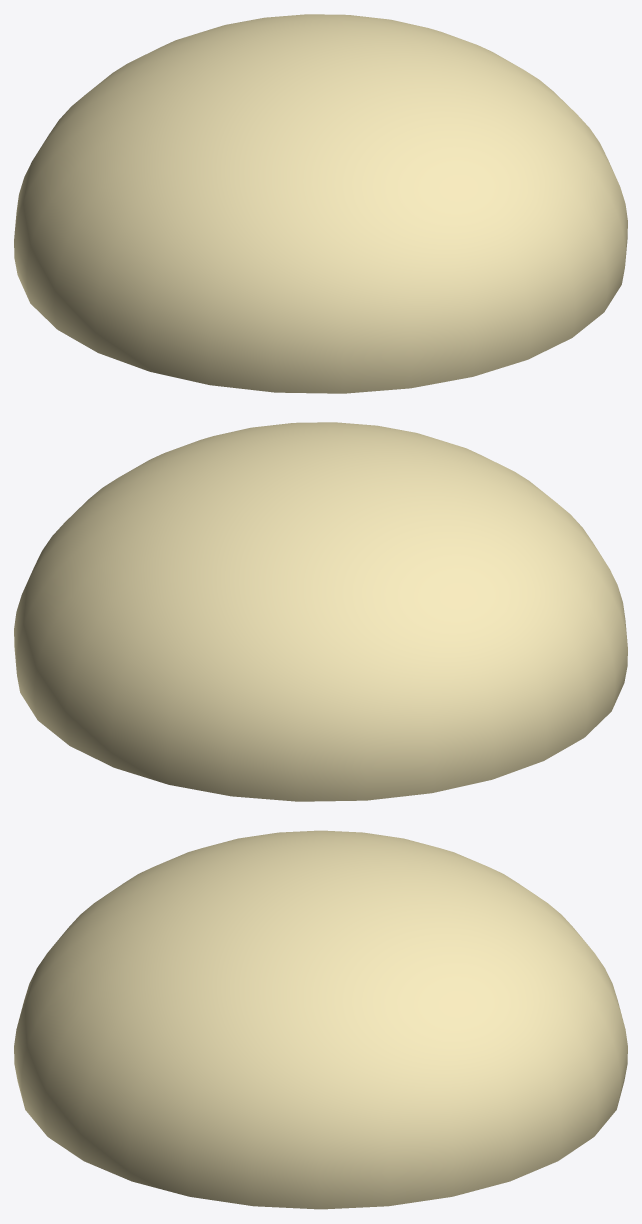
File: pasta.glb
The picture shows the model from 3 angles, top to bottom: view 1: azimuth 30°, elevation 25°; view 2: azimuth 150°, elevation 25°; view 3: azimuth 270°, elevation 25°; orthographic projection.
Parts seen in each view (by area): view 1: pastaMound; view 2: pastaMound; view 3: pastaMound.
Part boxes in pixels (x1,y1,x2,y2): pastaMound: (14,14,627,393); pastaMound: (14,422,627,801); pastaMound: (14,830,627,1209).
Size of the model in its own units: 0.4797 by 0.1804 by 0.4797.
